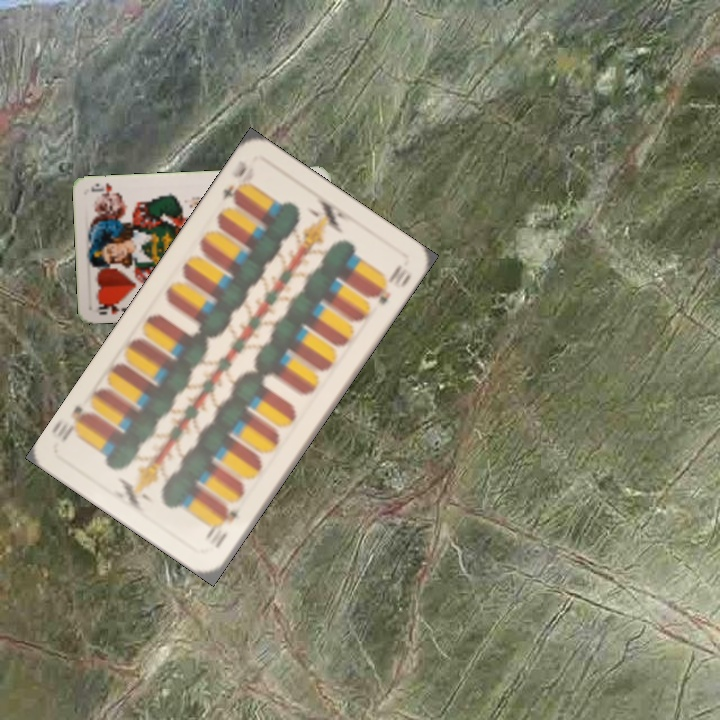E10: (217, 156, 250, 207), (204, 506, 241, 551)
HO: (94, 298, 133, 318)
